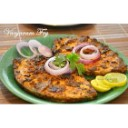seerfish: (12, 55, 96, 101), (53, 37, 126, 73)
